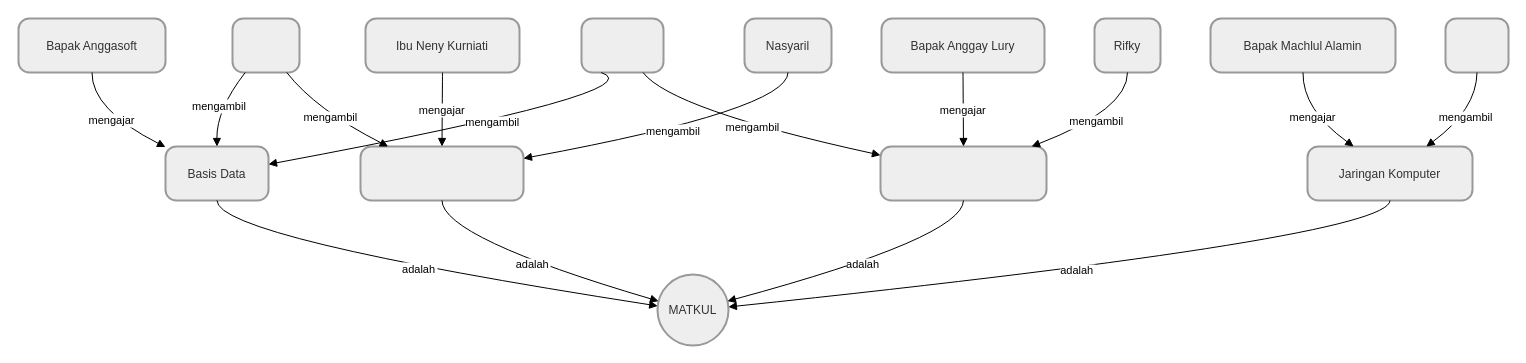
This 1526x363 diagram has some shape labels left out. The centre of each missing label's shape, as x and y in pixels:
"Adittya" belongs at pixel 622 45.
"Agus" belongs at pixel 1476 45.
"Kecerdasan Buatan" belongs at pixel 963 173.
"Pemrograman Web" belongs at pixel 441 173.
"Tsara" belongs at pixel 265 45.
